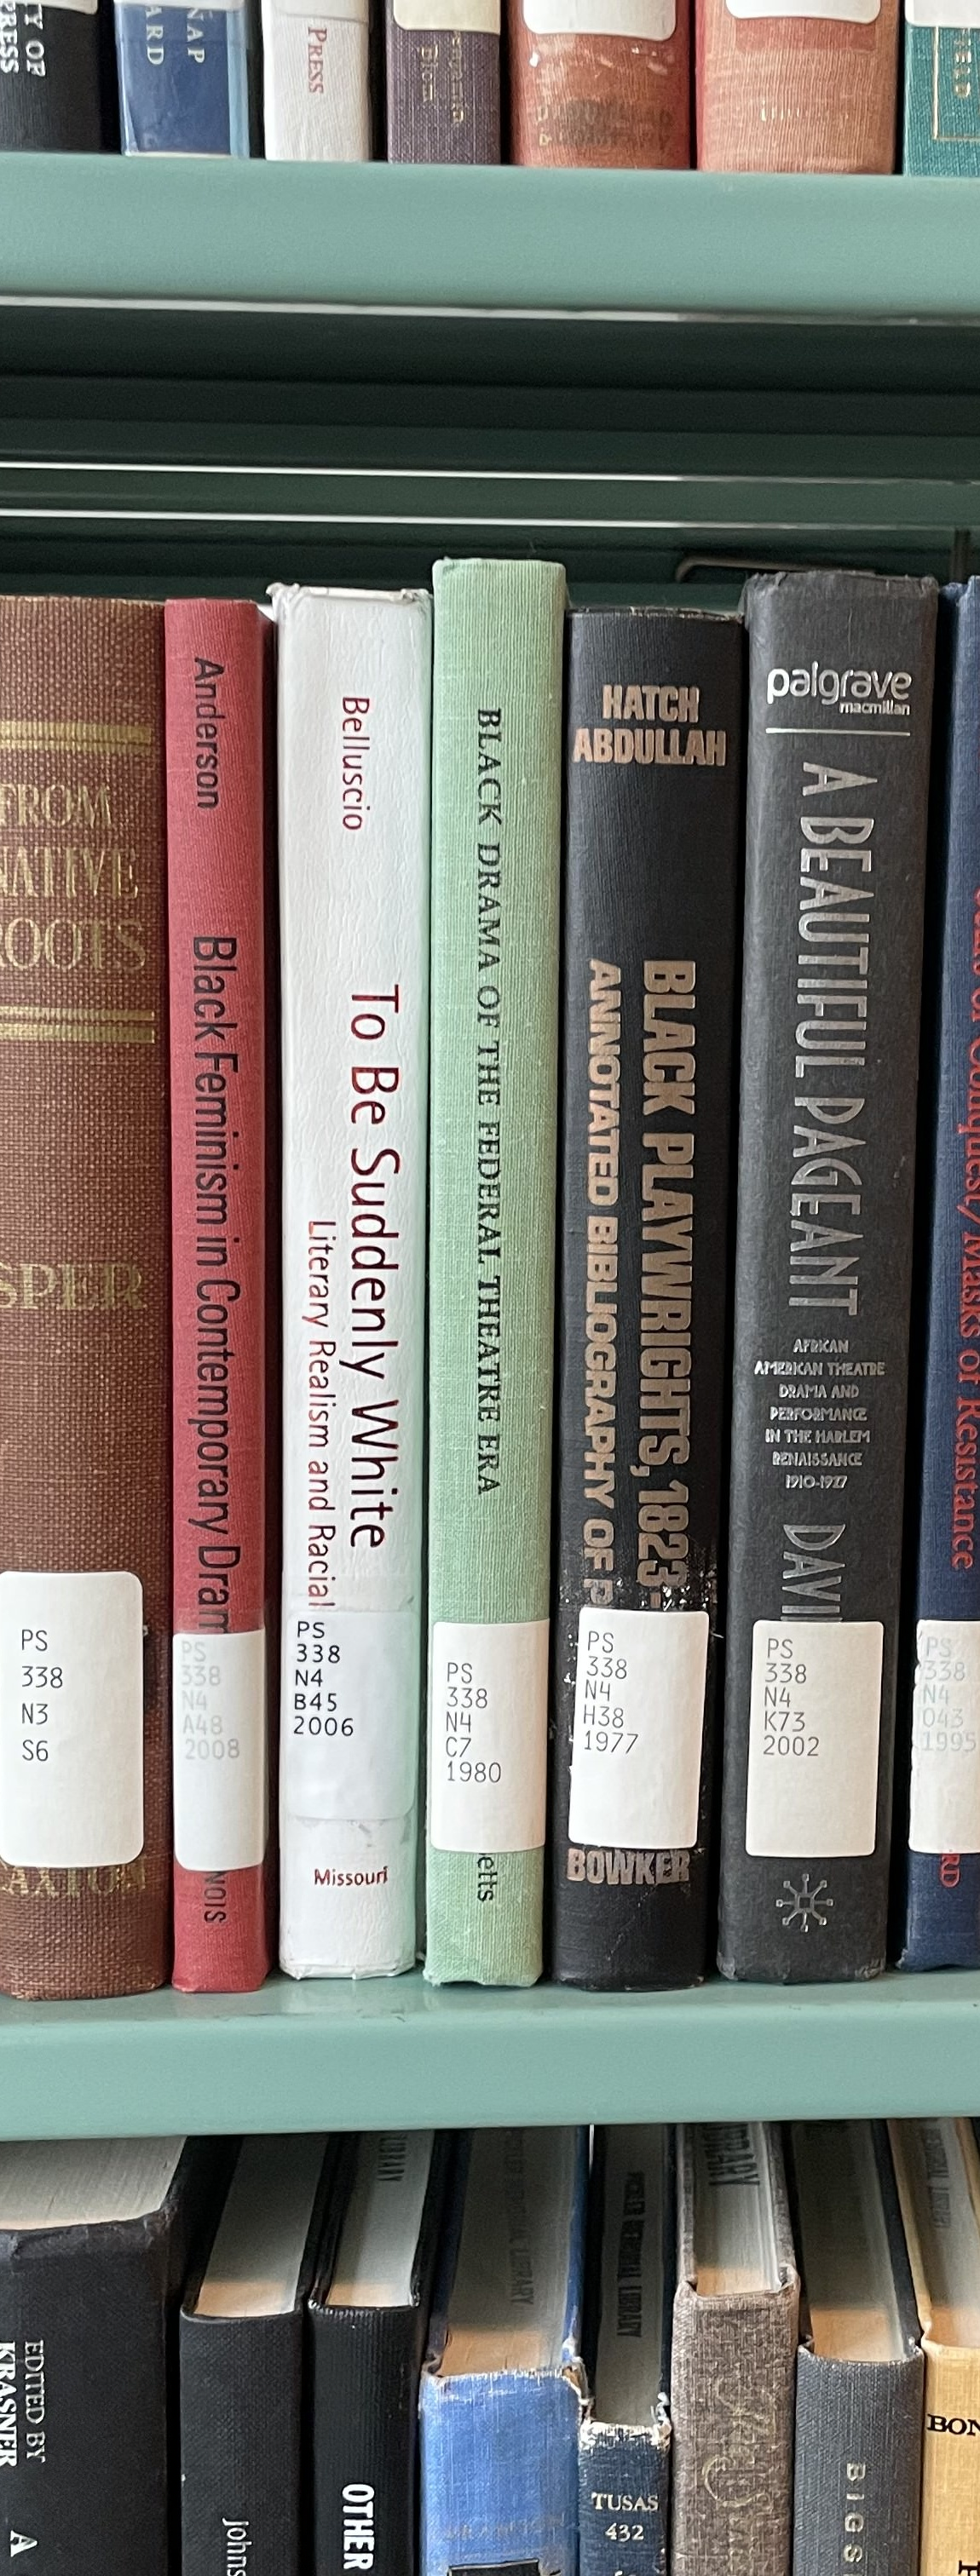call_number: (0, 1571, 145, 1868), (572, 1603, 700, 1847), (283, 1617, 426, 1825), (755, 1620, 875, 1858), (436, 1621, 548, 1851), (168, 1626, 266, 1874), (918, 1621, 980, 1853)
